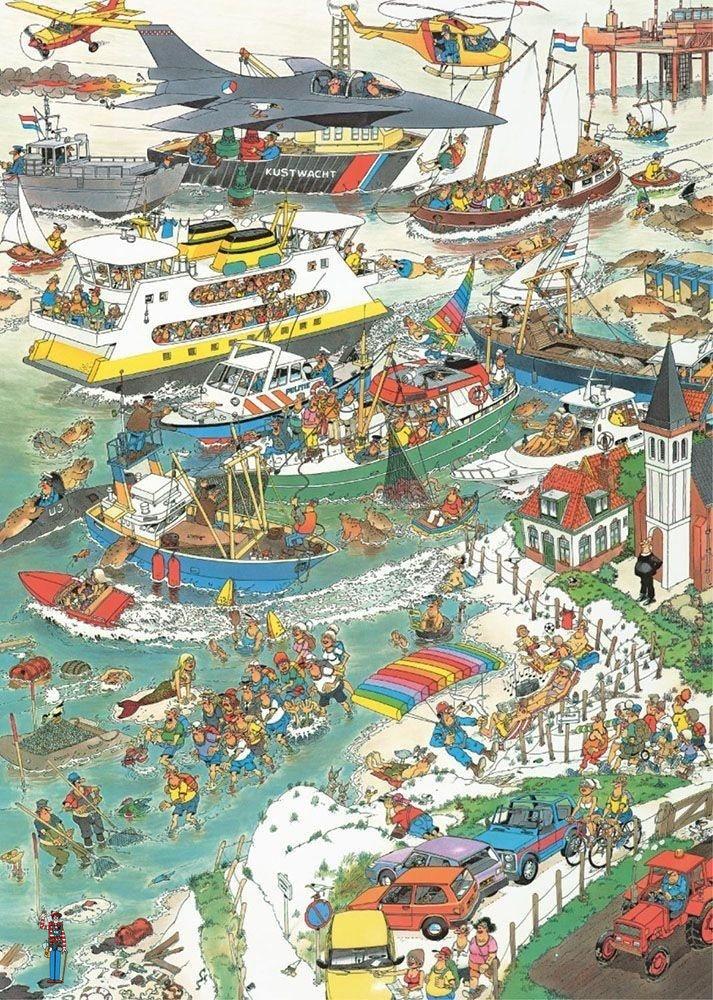waldo: (40, 910, 68, 984)
